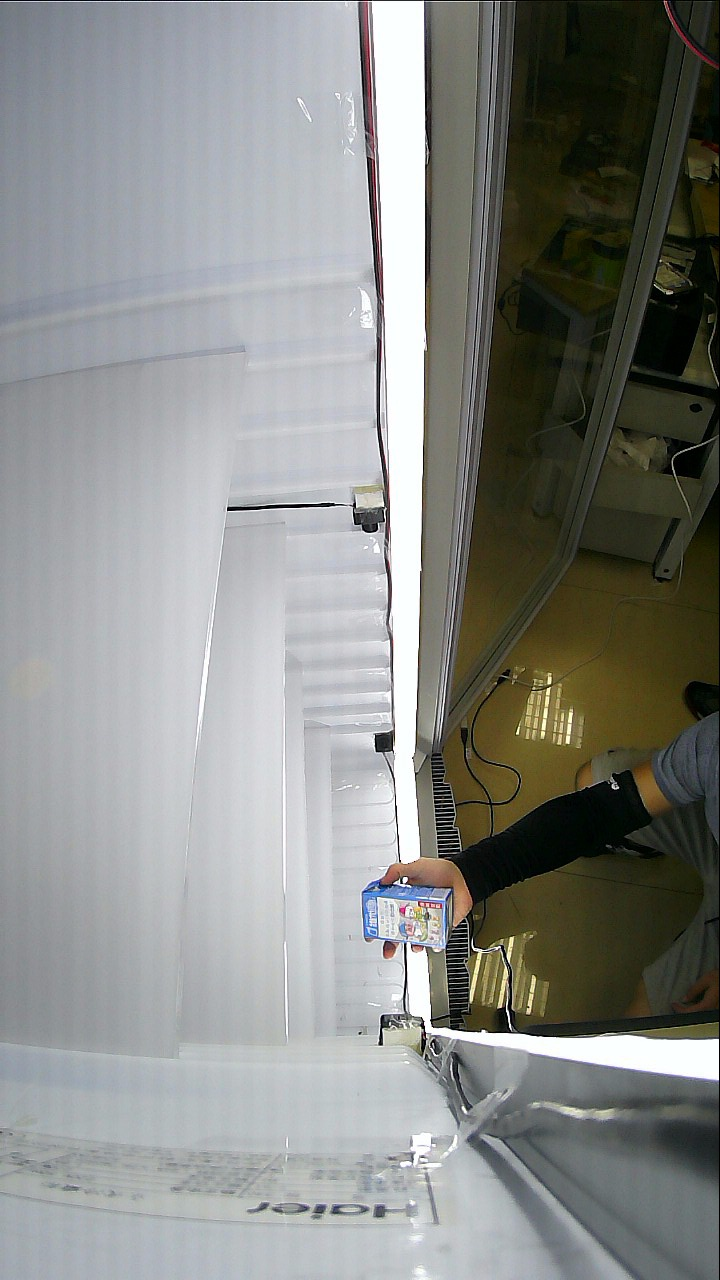VitaSoyOriginal: (367, 854, 480, 959)
